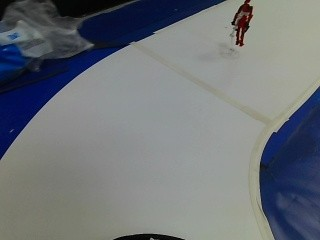pedestrian: (228, 0, 253, 44)
